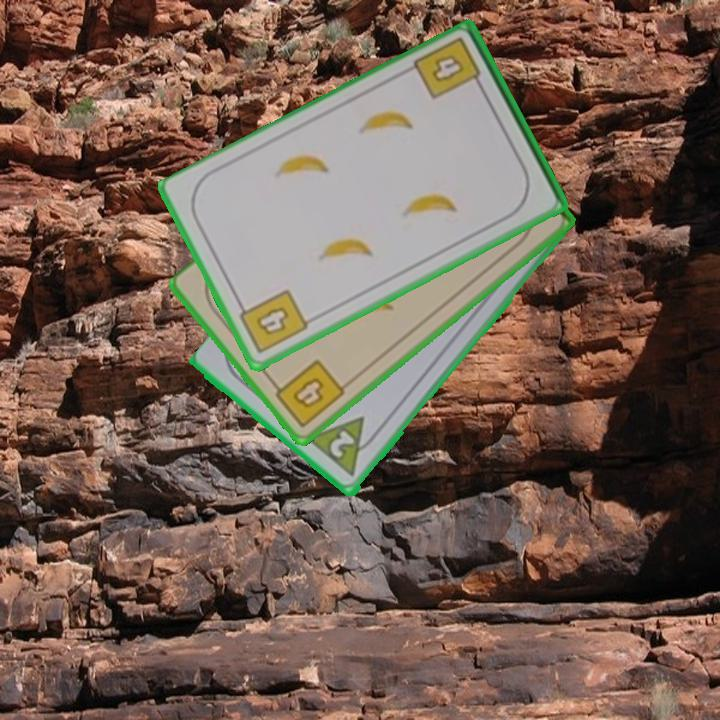2p: (304, 413, 384, 481)
4b: (267, 356, 348, 431), (234, 286, 311, 357), (410, 33, 487, 103)
